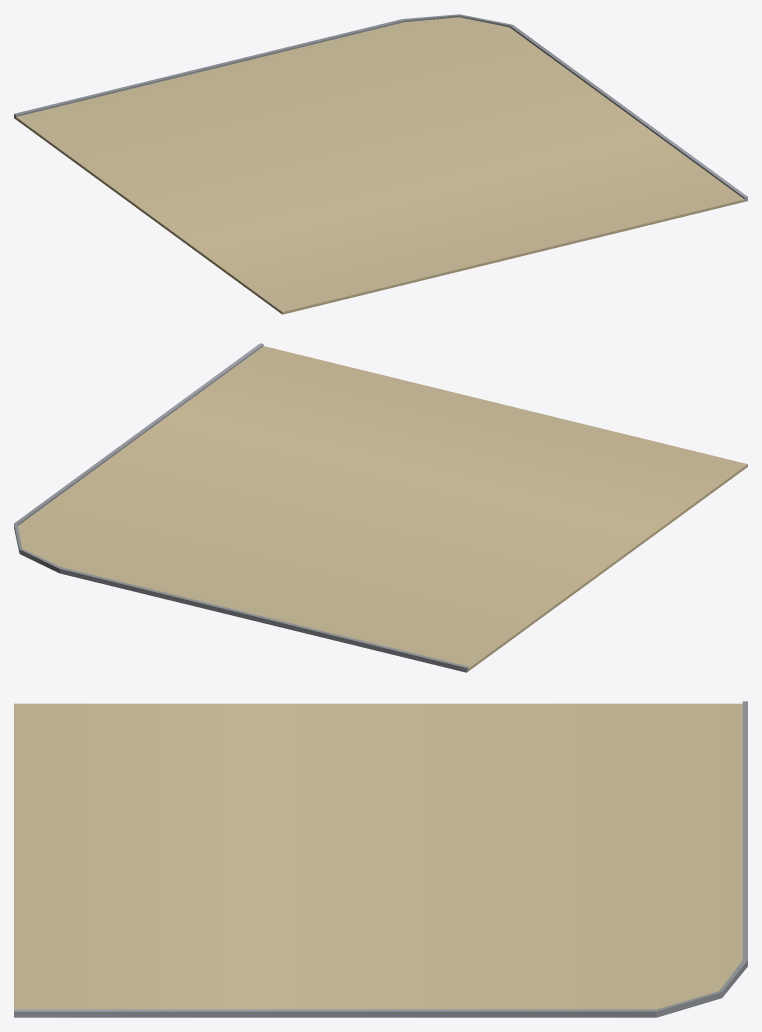
The model's file is sidewalk_42.fbx.
3 views of the same model, one above another, from view 1: azimuth 30°, elevation 25°; view 2: azimuth 150°, elevation 25°; view 3: azimuth 270°, elevation 25° (orthographic). The views are drawn at different scales.
Visible parts, largest first — view 1: sidewalk_41; view 2: sidewalk_41; view 3: sidewalk_41.
Boxes of the visible parts, x1,y1,x2,y2 form: sidewalk_41: (14, 14, 747, 314); sidewalk_41: (14, 343, 747, 672); sidewalk_41: (14, 701, 747, 1017).
Size of the model in its own units: 2.63 by 0.0237 by 2.63.
1 material, 1 textured.
